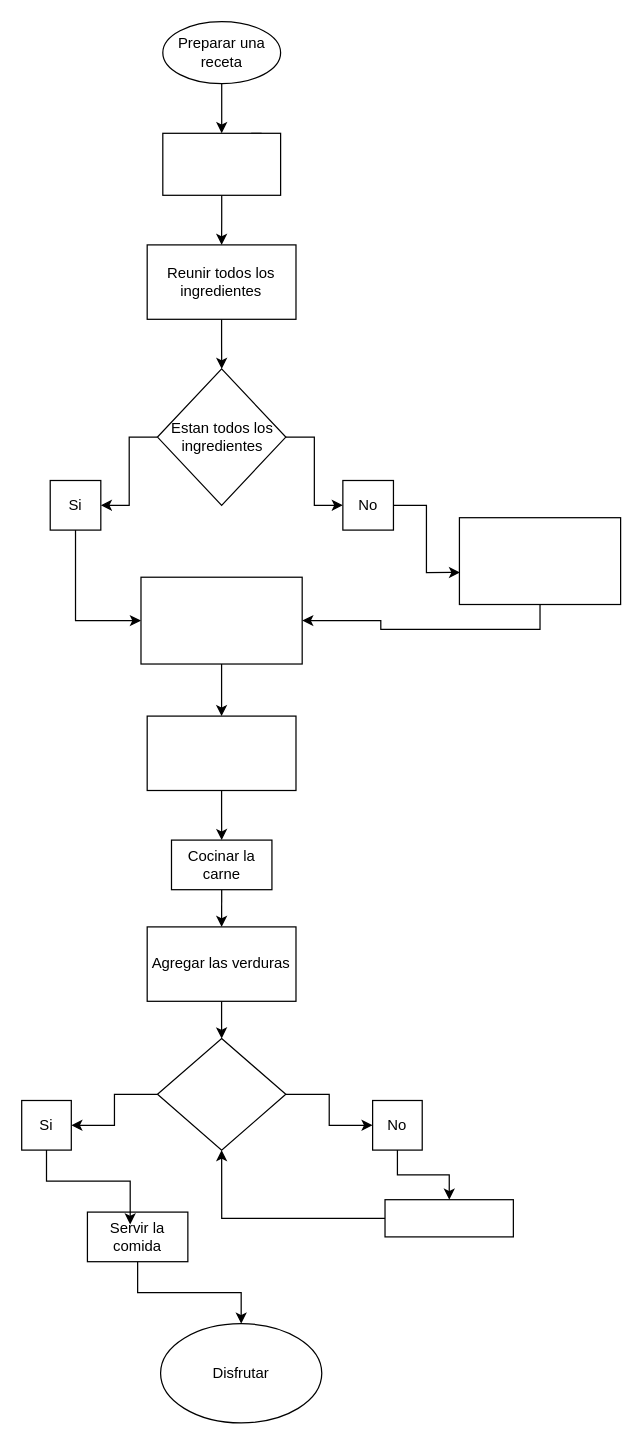
Some shapes in this 642 by 1445 pixel diagram are drawn without their labels. The centre of each missing label's shape, as x and y in pixels:
Colocar la carne, agua y condimentos en una olla: [221,752]
Conseguir los ingredientes restantes: [539,560]
Elegir la receta de olla de carne: [221,163]
Lavar los ingredientes pelar y cortar las verduras: [221,620]
Seguir cocinando: [448,1217]
¿Está todo suave y cocido?: [221,1093]
